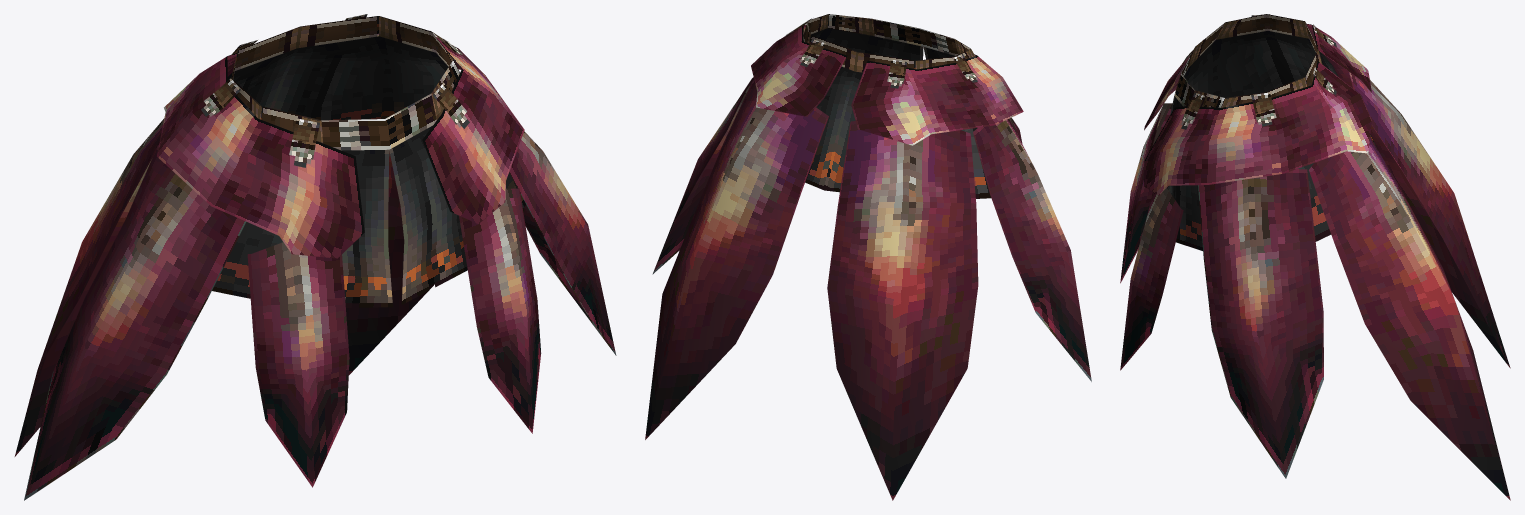
File: f_wst145.glb
3 views of the same model, side by side, from view 1: azimuth 30°, elevation 25°; view 2: azimuth 150°, elevation 25°; view 3: azimuth 270°, elevation 25° (orthographic). The views are drawn at different scales.
Size of the model in its own units: 91.56 by 70.5 by 64.58.
1 material, 1 textured.
